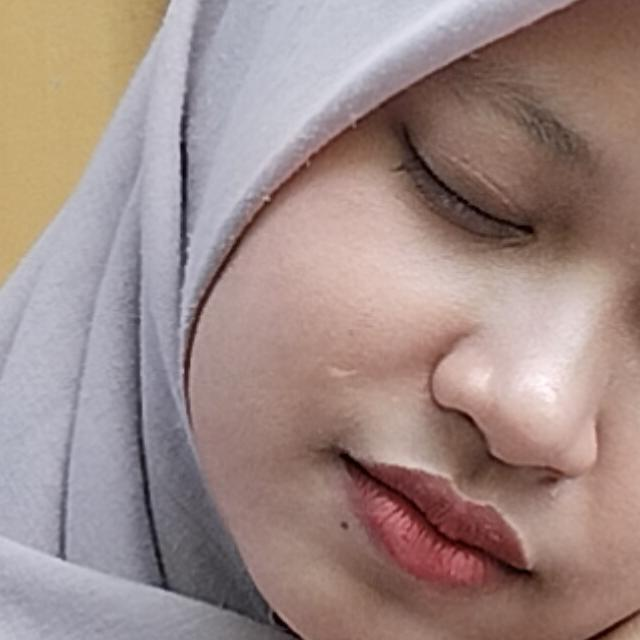tidur: (96, 238, 640, 640)
